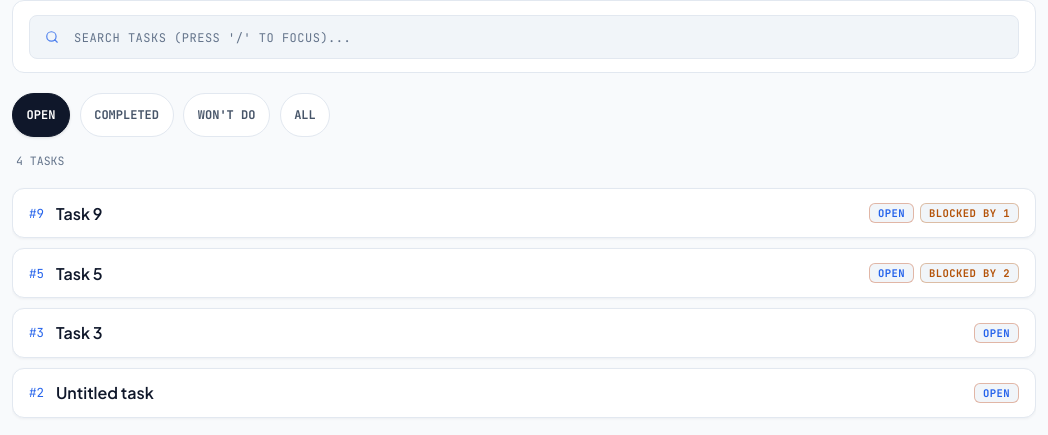
Test: DocketView interactions › a query waits 300ms, then shows search hits in score order
This screenshot has width=1048, height=435.
Type " task 9 " into the search field labelled "SEARCH TASKS" at (524, 37), box [29, 15, 1019, 59]
Wait 300 ms
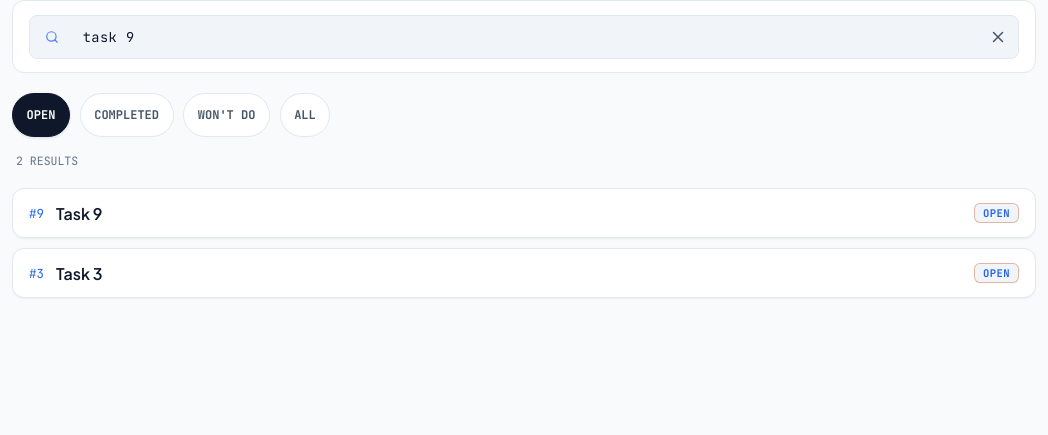
Check: the button with class "cat-pill" reads "OPEN", box [12, 93, 70, 137]
Check: the text "2 RESULTS" is shown, box [16, 153, 78, 168]
